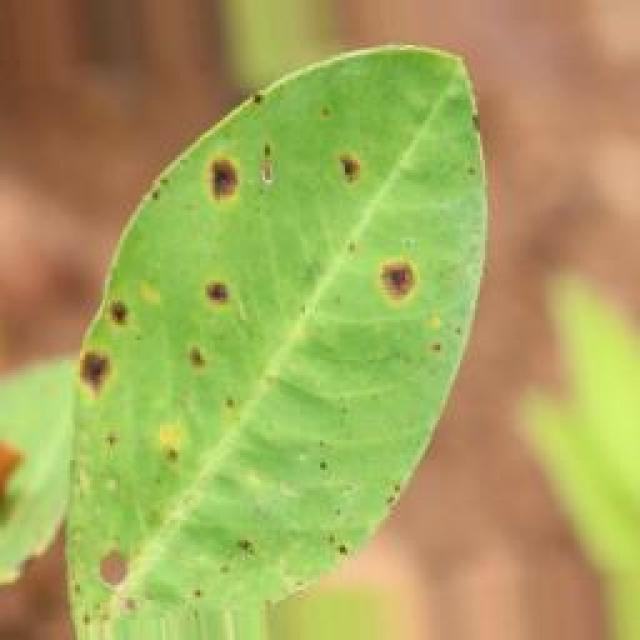Early_leaf_spot: (137, 143, 433, 555), (41, 276, 161, 414), (157, 258, 247, 394), (51, 522, 167, 626), (342, 209, 445, 322), (168, 118, 284, 203), (308, 111, 398, 207), (134, 392, 216, 488), (216, 510, 310, 592)
